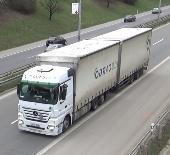Car: (125, 16, 136, 22), (152, 8, 161, 14)
Truck: (17, 27, 152, 136)
